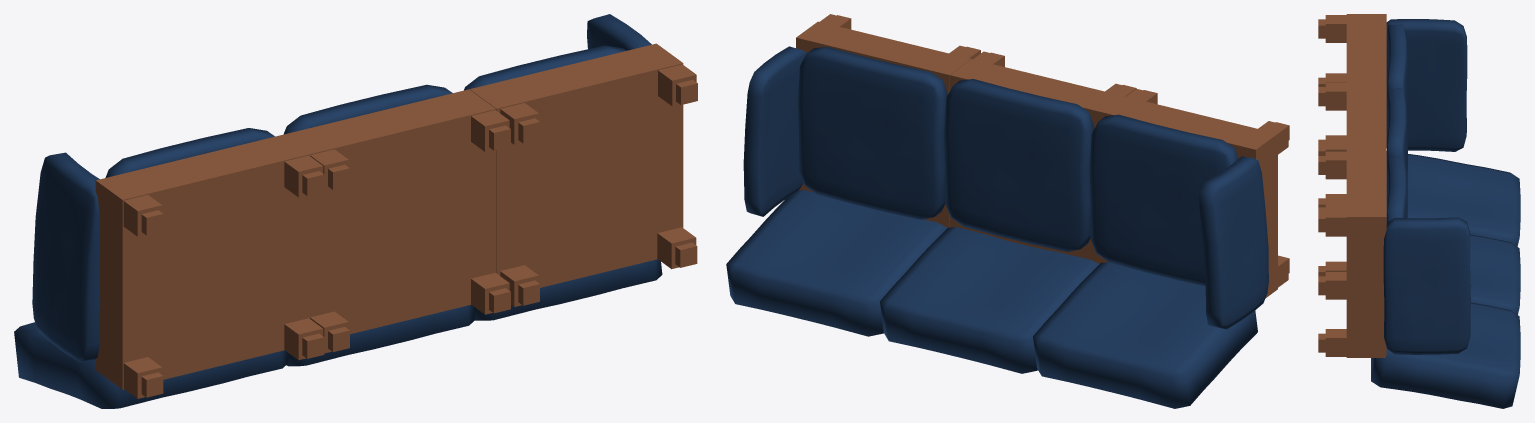
Rendered from Mueble_largo_ofi.fbx.
3 views of the same model, side by side, from view 1: azimuth 30°, elevation 25°; view 2: azimuth 150°, elevation 25°; view 3: azimuth 270°, elevation 25° (orthographic). The views are drawn at different scales.
Visible parts, largest first — view 1: Cube.042; view 2: Cube.042; view 3: Cube.042.
Boxes of the visible parts, x1,y1,x2,y2 form: Cube.042: [14, 14, 697, 408]; Cube.042: [726, 14, 1289, 408]; Cube.042: [1318, 14, 1520, 408].
Size of the model in its own units: 2.29 by 0.9834 by 0.9171.
